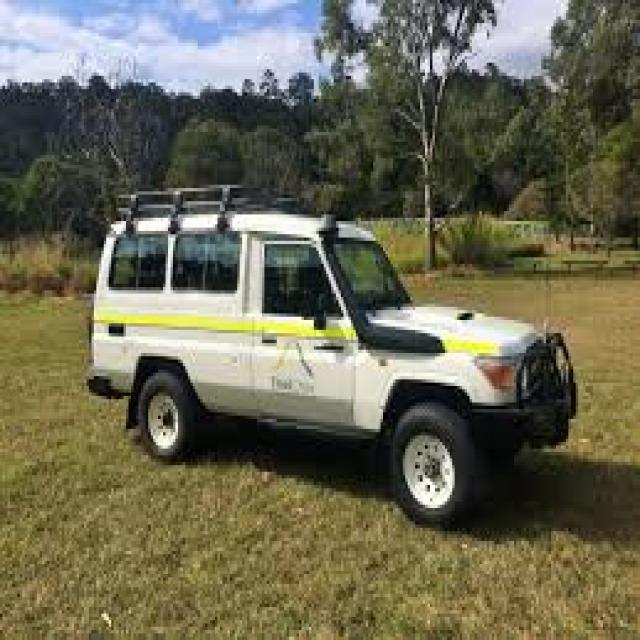light_vehicle: (59, 152, 568, 528)
